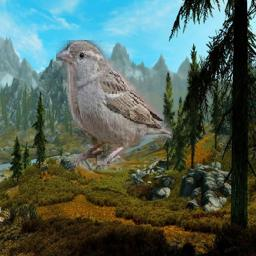Sparrow: (57, 40, 174, 172)
